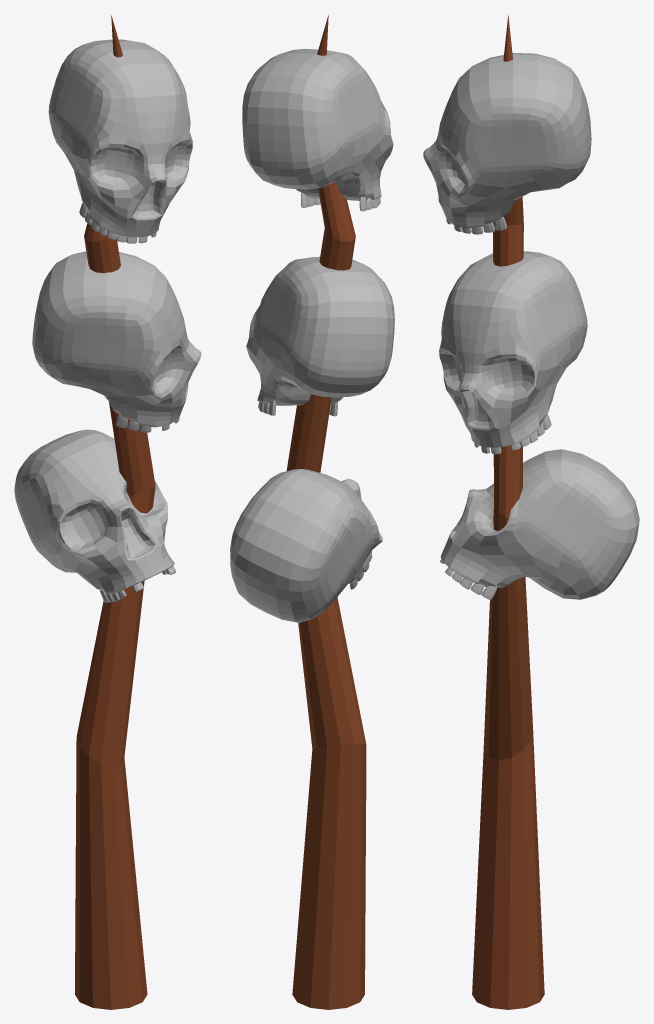
File: Skull on stick.fbx
3 views of the same model, side by side, from view 1: azimuth 30°, elevation 25°; view 2: azimuth 150°, elevation 25°; view 3: azimuth 270°, elevation 25° (orthographic).
Parts seen in each view (by area): view 1: Cylinder; view 2: Cylinder; view 3: Cylinder.
Part boxes in pixels (box(x1,y1,x2,y2)): Cylinder: box(14, 15, 201, 1009); Cylinder: box(230, 15, 394, 1009); Cylinder: box(423, 15, 639, 1009).
Bounding box in the file's own units: 274 × 1863 × 373.
